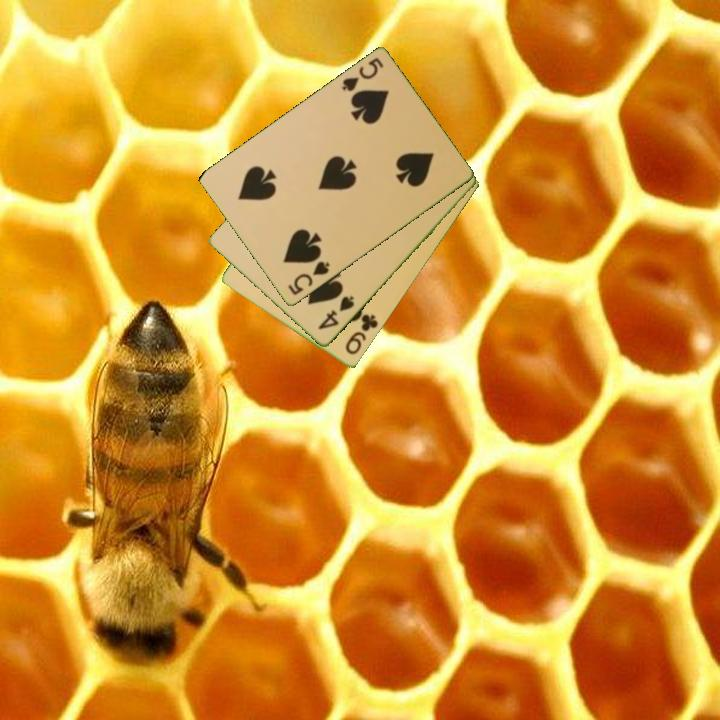4s: (315, 293, 357, 333)
5s: (284, 258, 333, 299), (338, 54, 386, 95)
9c: (342, 311, 381, 358)
